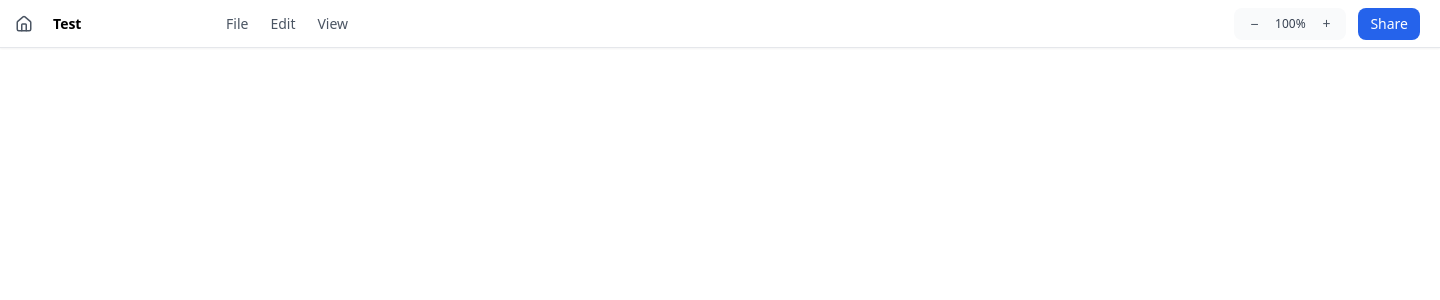
it: MenuBar › opens Edit menu and shows menu items with keyboard shortcuts
Click the button "Edit" at (283, 24), box [260,10,306,38]
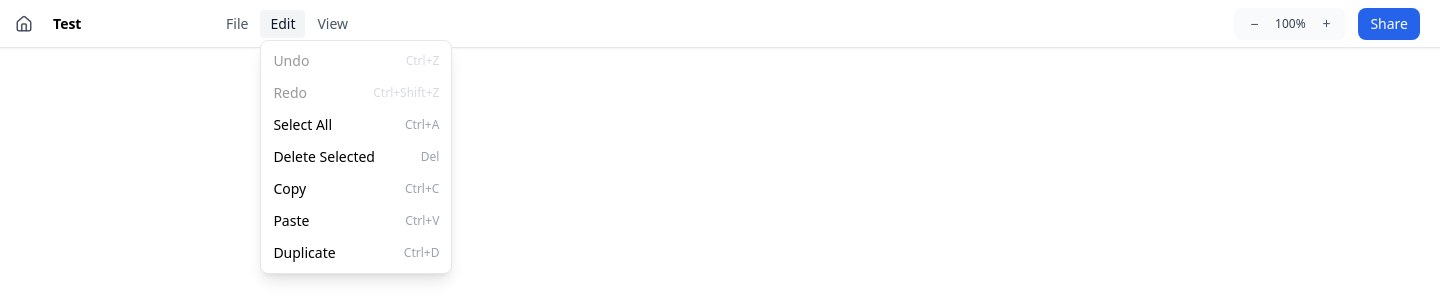
Result: the text "Undo" is shown at [273,50,309,70]
Result: the text "Redo" is shown at [273,82,307,102]
Result: the text "Select All" is shown at [273,114,332,134]
